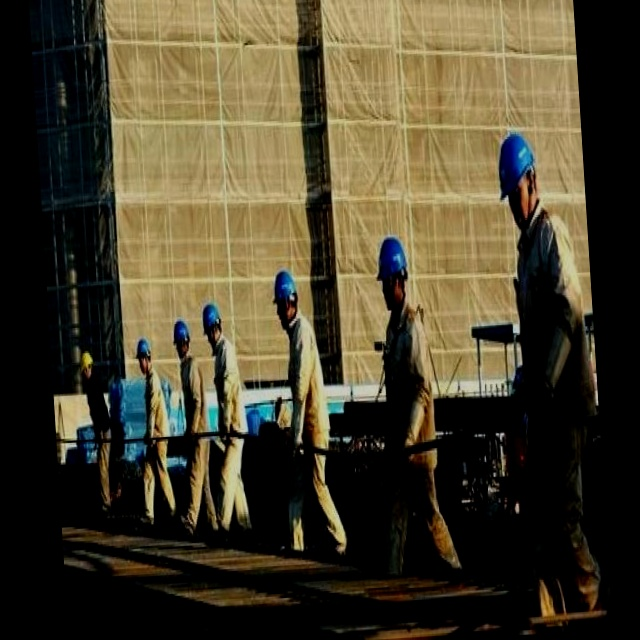Con_Casco: (496, 131, 541, 224), (375, 237, 412, 312), (271, 269, 301, 329)
